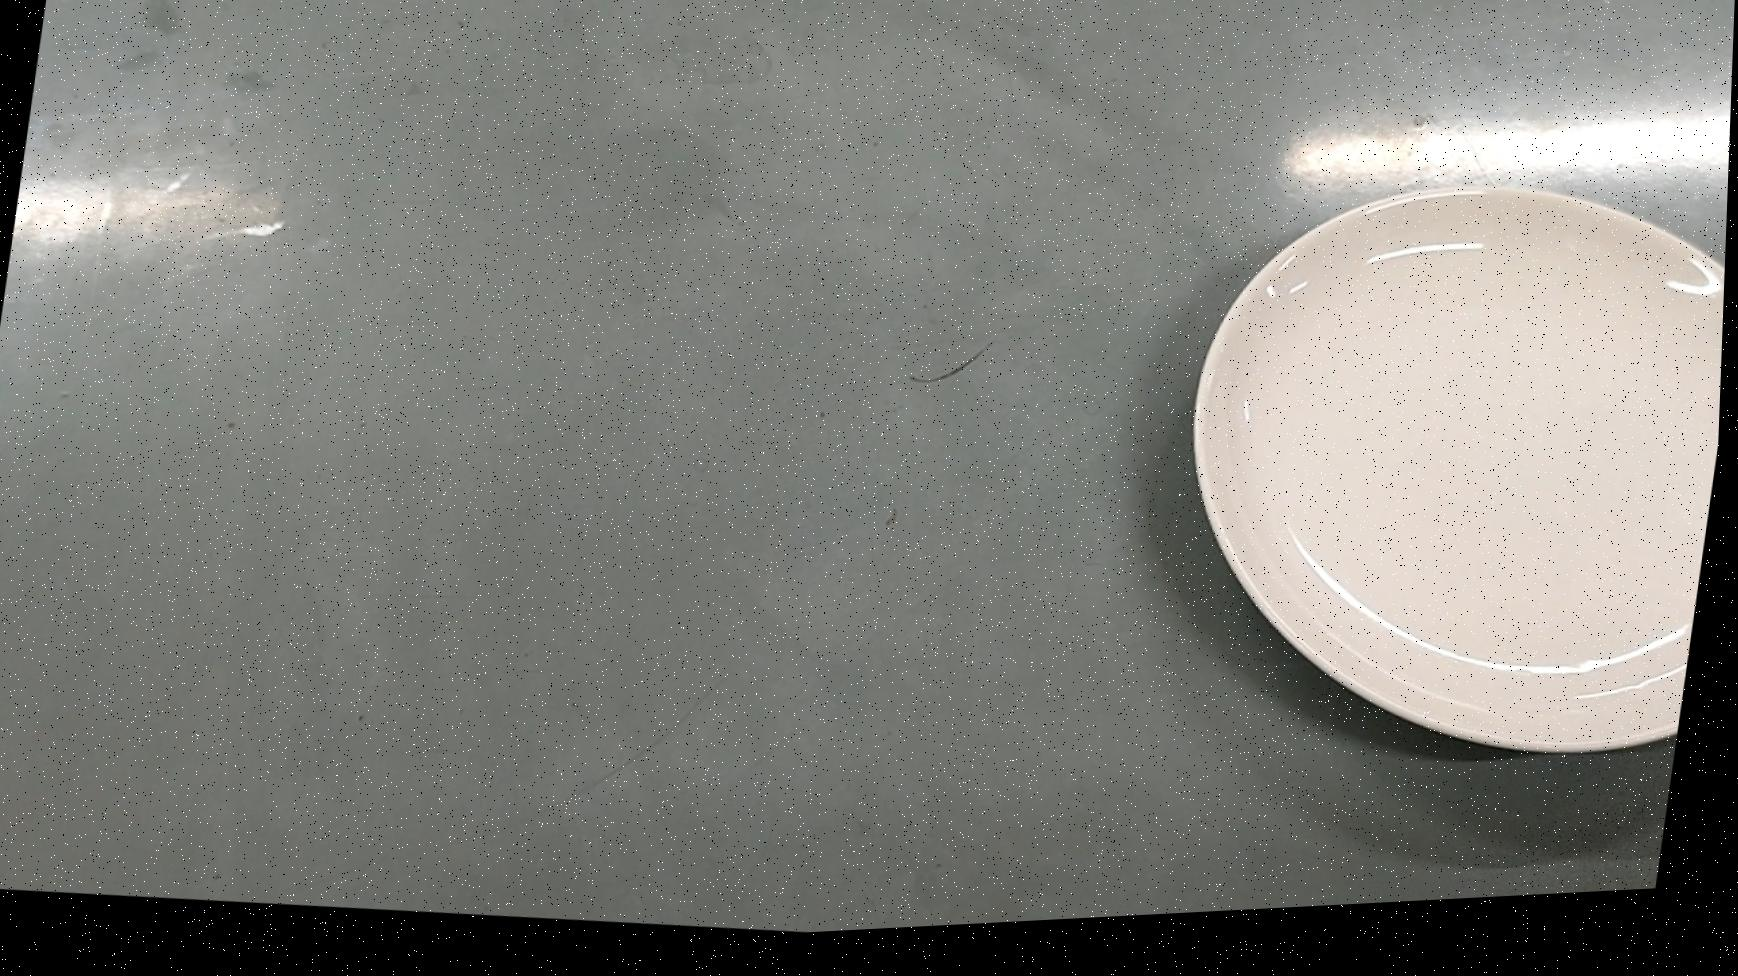plate: (1155, 165, 1731, 805)
